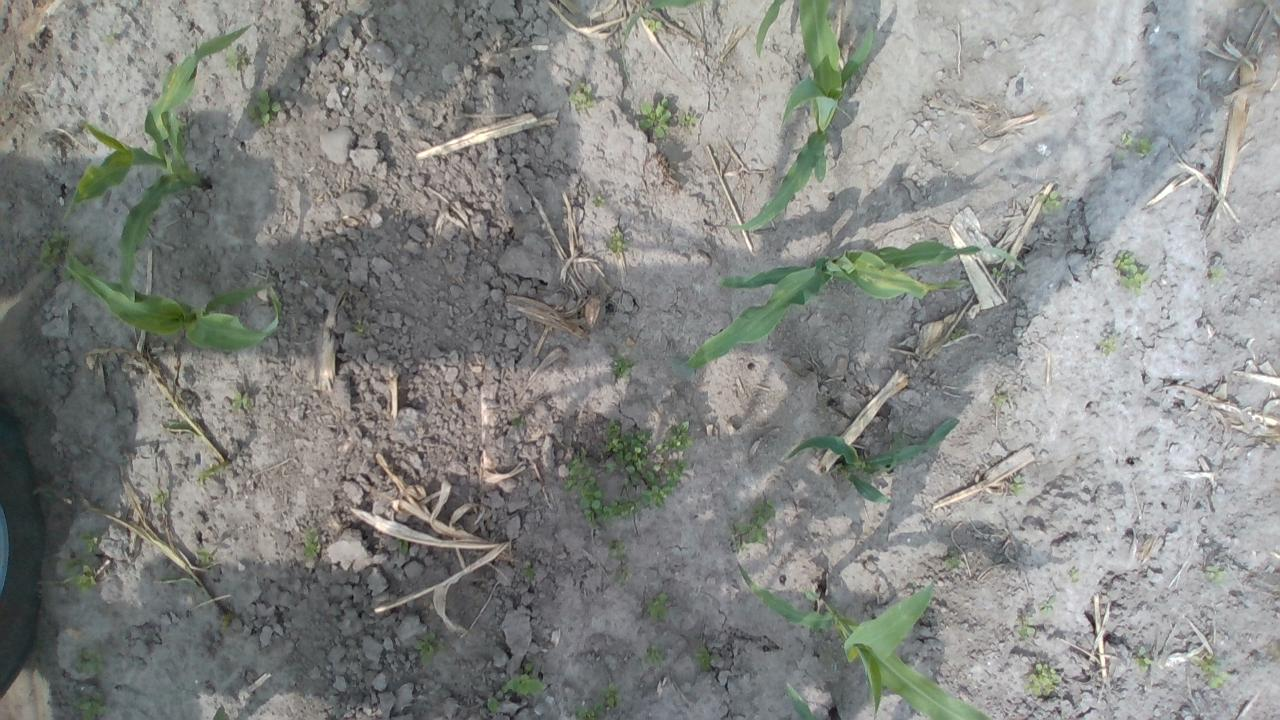Maize: (67, 25, 277, 304), (661, 237, 1026, 376), (734, 562, 996, 720), (716, 0, 880, 234), (61, 264, 280, 358), (774, 419, 964, 508), (621, 0, 699, 45), (782, 682, 844, 720), (751, 0, 788, 57)
Weeds: (564, 420, 694, 528), (41, 231, 104, 280), (732, 497, 777, 551), (1194, 652, 1240, 690), (1114, 252, 1150, 295), (638, 98, 672, 139), (247, 88, 285, 124), (506, 662, 546, 696), (412, 631, 450, 665), (1024, 664, 1062, 698), (64, 558, 97, 594), (606, 539, 632, 584), (70, 691, 110, 720), (72, 650, 105, 679), (1120, 134, 1154, 162), (569, 82, 597, 110), (644, 592, 670, 621), (610, 352, 636, 378), (1132, 646, 1158, 672), (605, 231, 631, 256), (570, 702, 604, 720), (302, 527, 321, 558), (598, 682, 622, 706), (1204, 564, 1228, 588), (1099, 332, 1119, 357), (1015, 615, 1036, 638), (677, 111, 699, 132), (1038, 190, 1061, 210), (80, 532, 100, 554), (694, 647, 712, 671), (228, 48, 248, 69), (233, 389, 252, 411), (195, 548, 217, 567), (1010, 473, 1026, 497), (150, 488, 172, 505), (1038, 594, 1056, 614), (644, 645, 662, 664), (1208, 266, 1226, 282), (990, 266, 1007, 282), (485, 694, 500, 712), (951, 327, 968, 342), (396, 538, 410, 556), (521, 562, 536, 578), (645, 18, 662, 32), (945, 554, 962, 568), (512, 413, 526, 429), (591, 195, 606, 207), (992, 394, 1007, 406), (353, 322, 366, 334), (1068, 568, 1079, 582)
